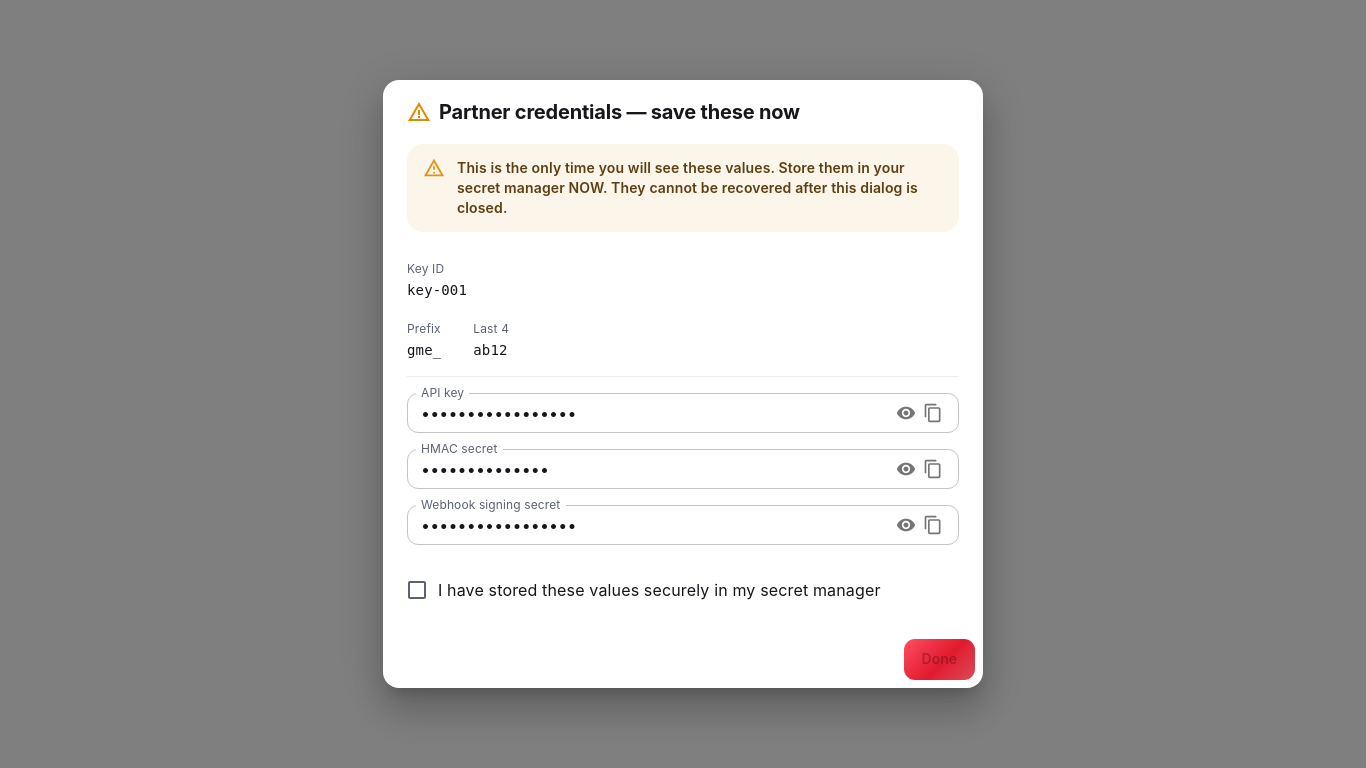
Test: ActivationCredentialModal › toggle-reveal reveals the API key
Step 1. Click the button named "toggle-plaintext-api-key" → (906, 413), box x1=891 y1=398 x2=921 y2=428
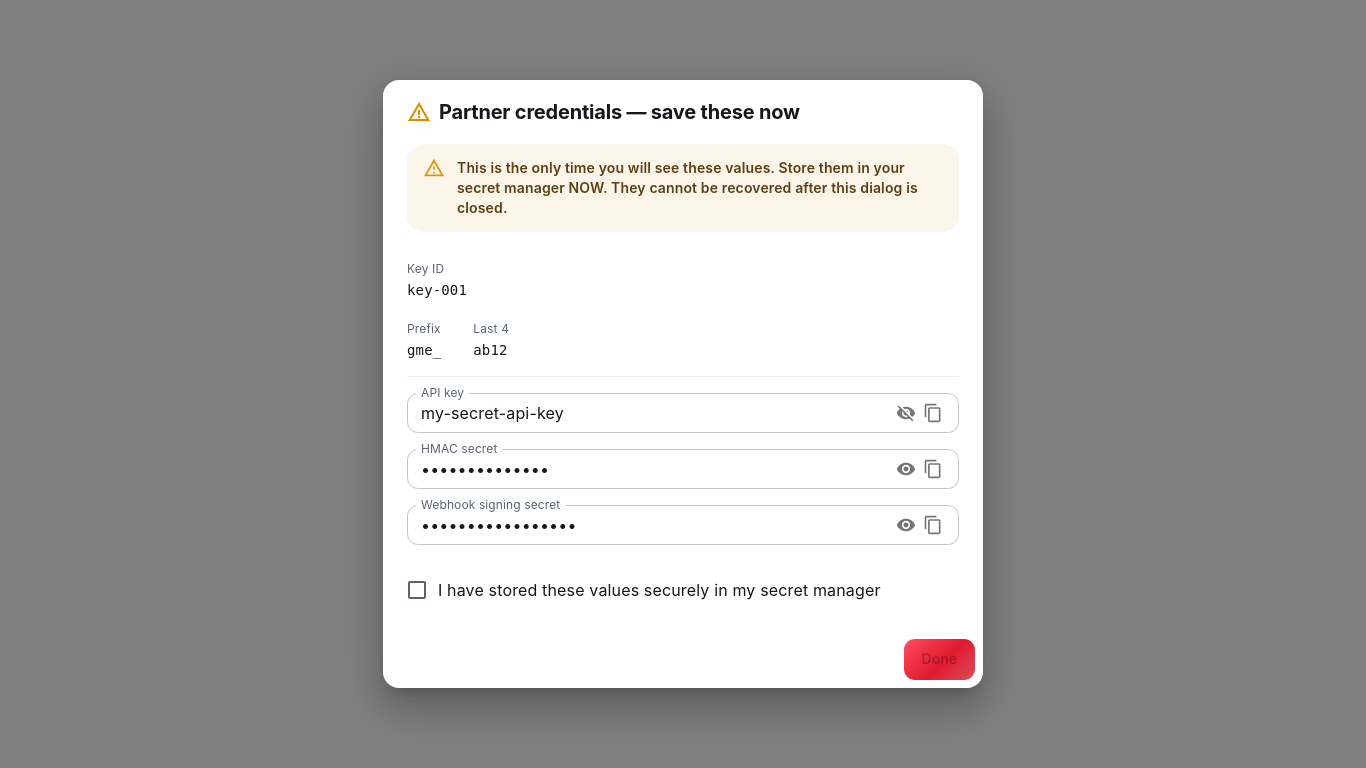
Check: the field named "plaintext-api-key" shows its text, box x1=407 y1=393 x2=883 y2=433
